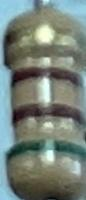Black: (12, 101, 85, 125), (11, 67, 85, 90)
Green: (6, 140, 86, 162)
Side-Gold: (3, 26, 85, 61)
